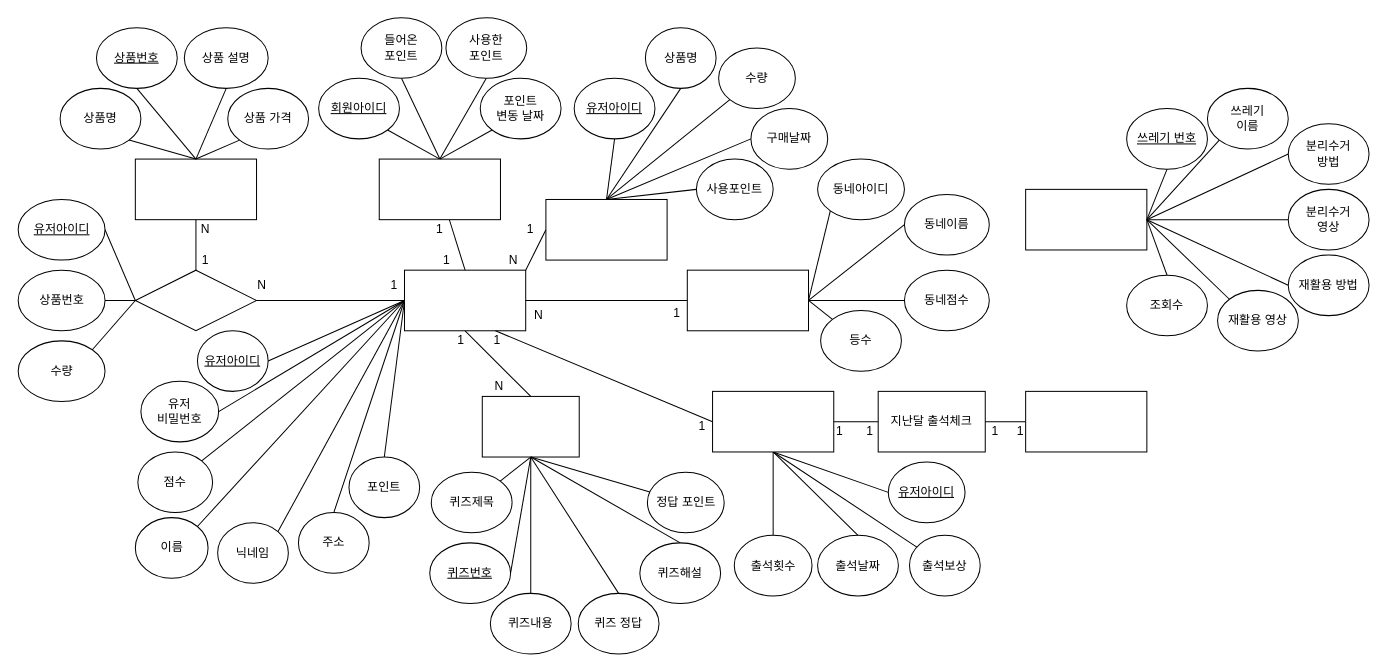
Some shapes in this 1387 by 672 pixel diagram are drawn without their labels. The box of each missing label's shape, as (x1, y1, x2, y2) in pixels:
구매: (134, 269, 257, 331)
구매내역: (545, 198, 667, 260)
랭킹: (686, 269, 809, 331)
상품: (134, 158, 257, 220)
쓰레기: (1025, 188, 1147, 250)
예전 출석체크: (1025, 390, 1147, 452)
유저: (403, 269, 526, 331)
출석체크: (712, 390, 834, 452)
퀴즈: (481, 395, 579, 457)
포인트 사용내역: (378, 158, 500, 220)
